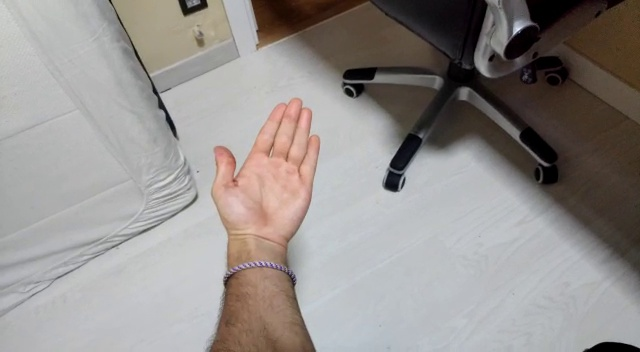Palm: (207, 90, 323, 237)
